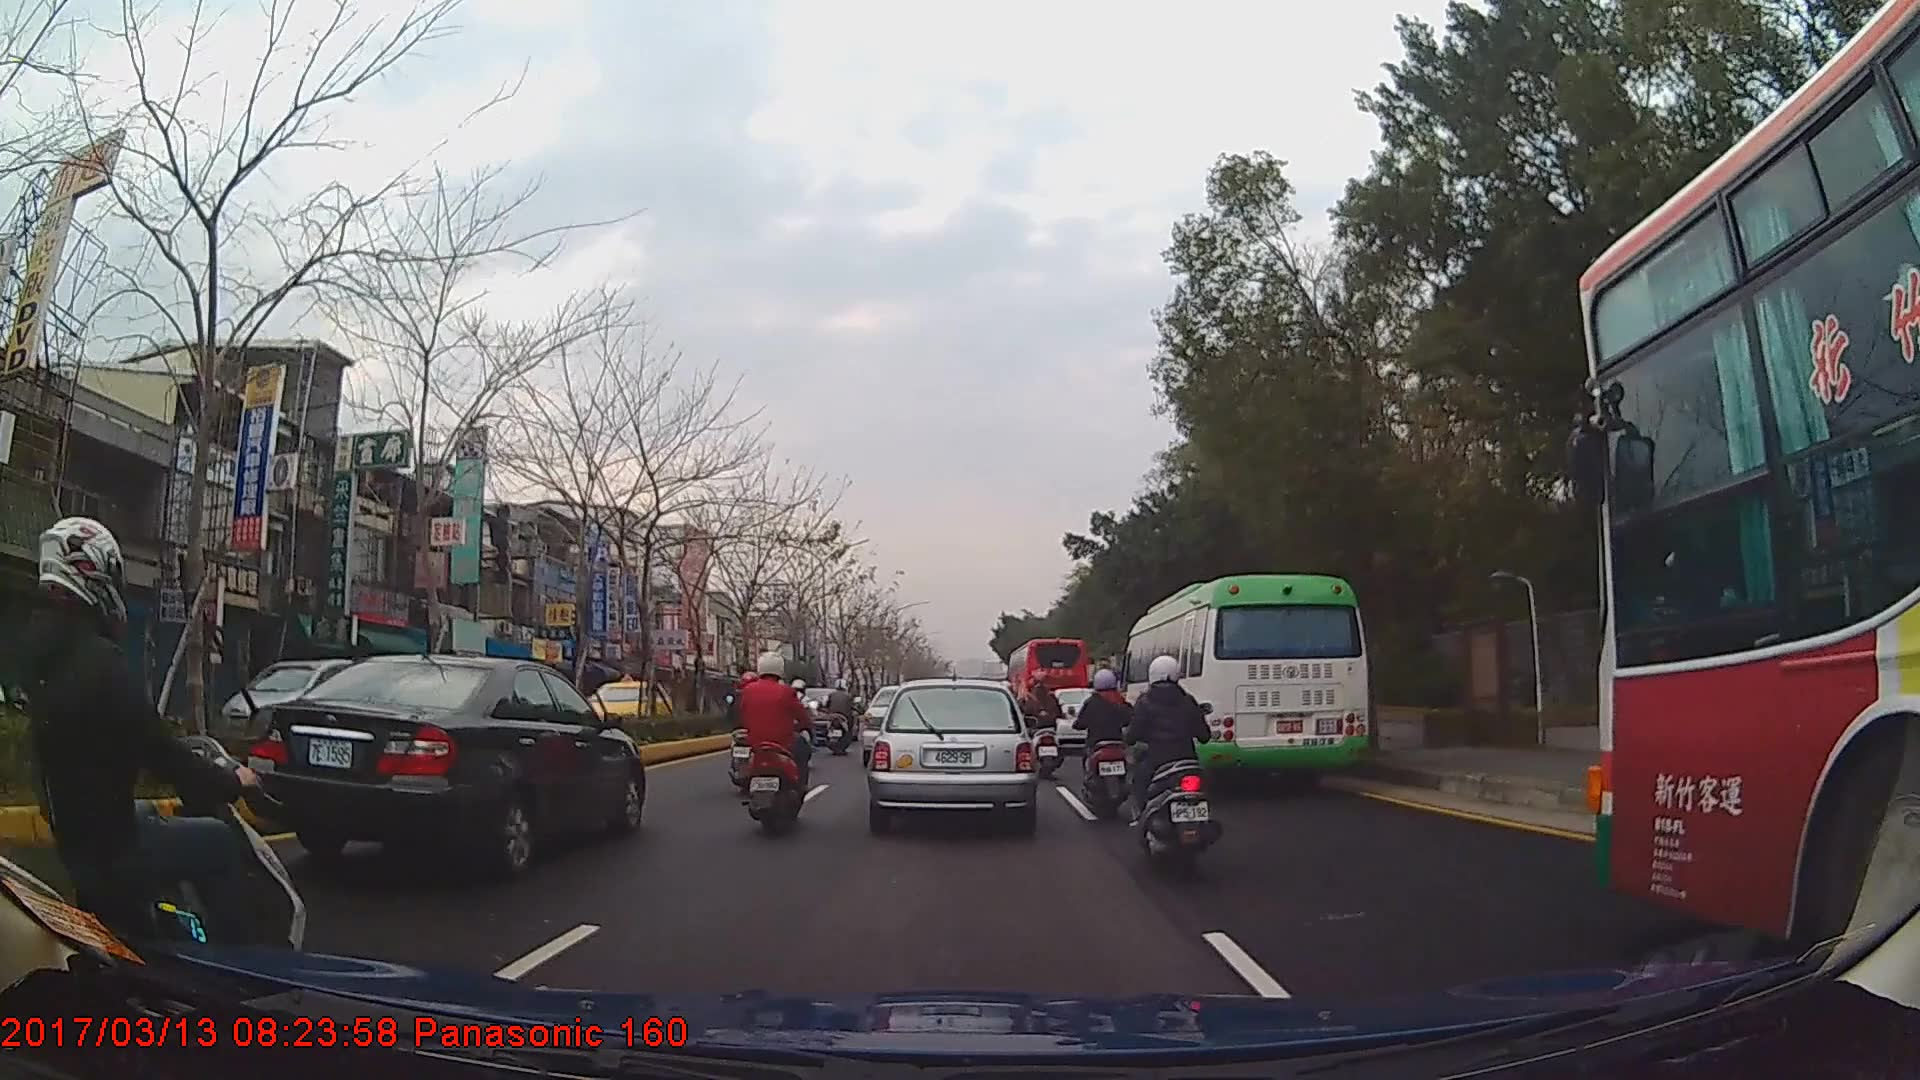rider: (1, 519, 311, 1007), (1131, 652, 1224, 883), (735, 647, 808, 838), (1071, 665, 1139, 819), (1024, 670, 1067, 781), (828, 677, 864, 755)
vehicle: (1573, 0, 1920, 976), (240, 653, 646, 876), (1119, 573, 1374, 790), (867, 677, 1036, 830), (1008, 634, 1092, 730), (576, 670, 680, 734)
